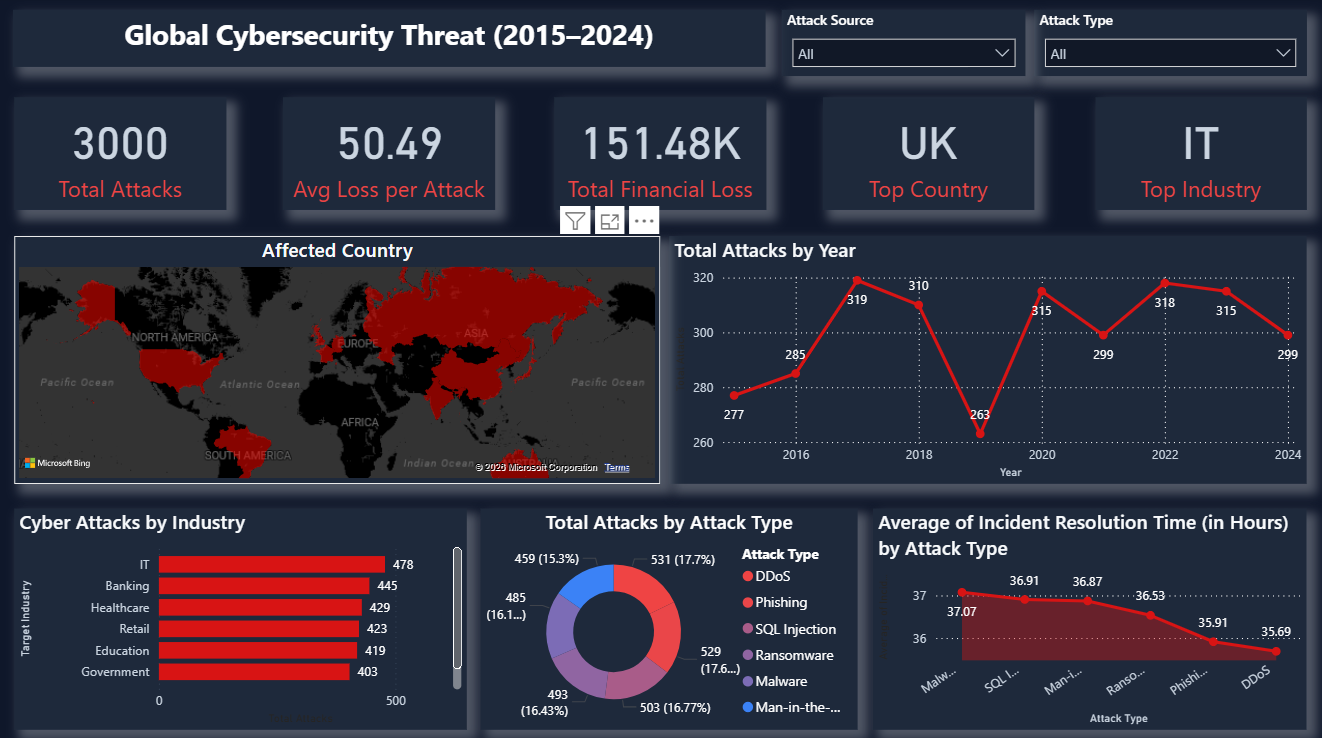

This screenshot's page, from the dashboard's own definition file:
{"tool":"powerbi","page":{"name":"Page 1","canvas":[1280,720],"ordinal":0},"visuals":[{"type":"card","fields":{"Values":["Global_Cybersecurity_Threats_2015-2024.Total Attacks"]},"box":[15.7,97.7,205.1,108.6],"z":0},{"type":"card","fields":{"Values":["Global_Cybersecurity_Threats_2015-2024.Total Financial Loss"]},"box":[536.9,97.7,205.1,108.6],"z":1000},{"type":"lineChart","fields":{"Category":["Global_Cybersecurity_Threats_2015-2024.Year"],"Y":["Global_Cybersecurity_Threats_2015-2024.Total Attacks"]},"box":[647.9,231.6,615.3,238.9],"z":2000},{"type":"barChart","title":"Cyber Attacks by Industry","fields":{"Category":["Global_Cybersecurity_Threats_2015-2024.Target Industry"],"Y":["Global_Cybersecurity_Threats_2015-2024.Total Attacks"]},"box":[15.7,494.6,436.7,213.5],"z":3000},{"type":"donutChart","fields":{"Category":["Global_Cybersecurity_Threats_2015-2024.Attack Type"],"Y":["Global_Cybersecurity_Threats_2015-2024.Total Attacks"]},"box":[465.7,494.6,364.3,213.5],"z":4000},{"type":"slicer","title":"Attack Type","fields":{"Values":["Global_Cybersecurity_Threats_2015-2024.Attack Type"]},"box":[1000.1,13.3,263,63.9],"z":5000},{"type":"filledMap","title":"Affected Country","fields":{"Category":["Global_Cybersecurity_Threats_2015-2024.Country"]},"box":[15.7,231.6,623.7,238.9],"z":6000},{"type":"areaChart","fields":{"Category":["Global_Cybersecurity_Threats_2015-2024.Attack Type"],"Y":["Avg(Global_Cybersecurity_Threats_2015-2024.Incident Resolution Time (in Hours))"]},"box":[844.5,494.6,418.6,213.5],"z":7000},{"type":"card","fields":{"Values":["Global_Cybersecurity_Threats_2015-2024.Top Country"]},"box":[796.3,97.7,203.9,108.6],"z":8000},{"type":"card","fields":{"Values":["Global_Cybersecurity_Threats_2015-2024.Top Industry"]},"box":[1059.3,97.7,203.9,108.6],"z":9000},{"type":"slicer","title":"Attack Source","fields":{"Values":["Global_Cybersecurity_Threats_2015-2024.Attack Source"]},"box":[756.4,13.3,235.3,63.9],"z":10000},{"type":"card","fields":{"Values":["Global_Cybersecurity_Threats_2015-2024.Avg Loss per Attack"]},"box":[275.1,97.7,205.1,108.6],"z":11000},{"type":"textbox","box":[14.5,13.3,726.3,55.5],"z":12000}]}

Visuals, with their boxes in screenshot pixels (x1, y1, x2, y2), scaled from the page's 1280x720 canvas onto the 1322x738 screenshot:
card - Global_Cybersecurity_Threats_2015-2024.Total Attacks: locate(16, 100, 228, 211)
card - Global_Cybersecurity_Threats_2015-2024.Total Financial Loss: locate(555, 100, 766, 211)
lineChart - Global_Cybersecurity_Threats_2015-2024.Year x Global_Cybersecurity_Threats_2015-2024.Total Attacks: locate(669, 237, 1305, 482)
"Cyber Attacks by Industry" barChart: locate(16, 507, 467, 726)
donutChart - Global_Cybersecurity_Threats_2015-2024.Attack Type x Global_Cybersecurity_Threats_2015-2024.Total Attacks: locate(481, 507, 857, 726)
"Attack Type" slicer: locate(1033, 14, 1305, 79)
"Affected Country" filledMap: locate(16, 237, 660, 482)
areaChart - Global_Cybersecurity_Threats_2015-2024.Attack Type x Avg(Global_Cybersecurity_Threats_2015-2024.Incident Resolution Time (in Hours)): locate(872, 507, 1305, 726)
card - Global_Cybersecurity_Threats_2015-2024.Top Country: locate(822, 100, 1033, 211)
card - Global_Cybersecurity_Threats_2015-2024.Top Industry: locate(1094, 100, 1305, 211)
"Attack Source" slicer: locate(781, 14, 1024, 79)
card - Global_Cybersecurity_Threats_2015-2024.Avg Loss per Attack: locate(284, 100, 496, 211)
textbox: locate(15, 14, 765, 71)
